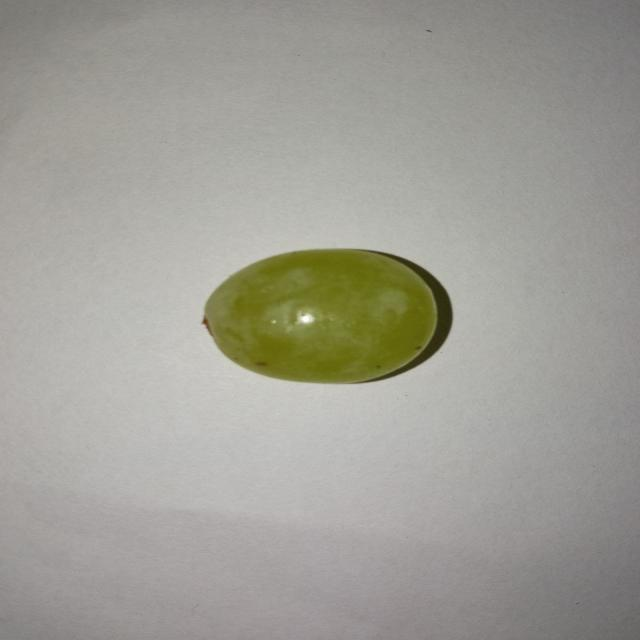fresh_grape: (202, 246, 441, 382)
